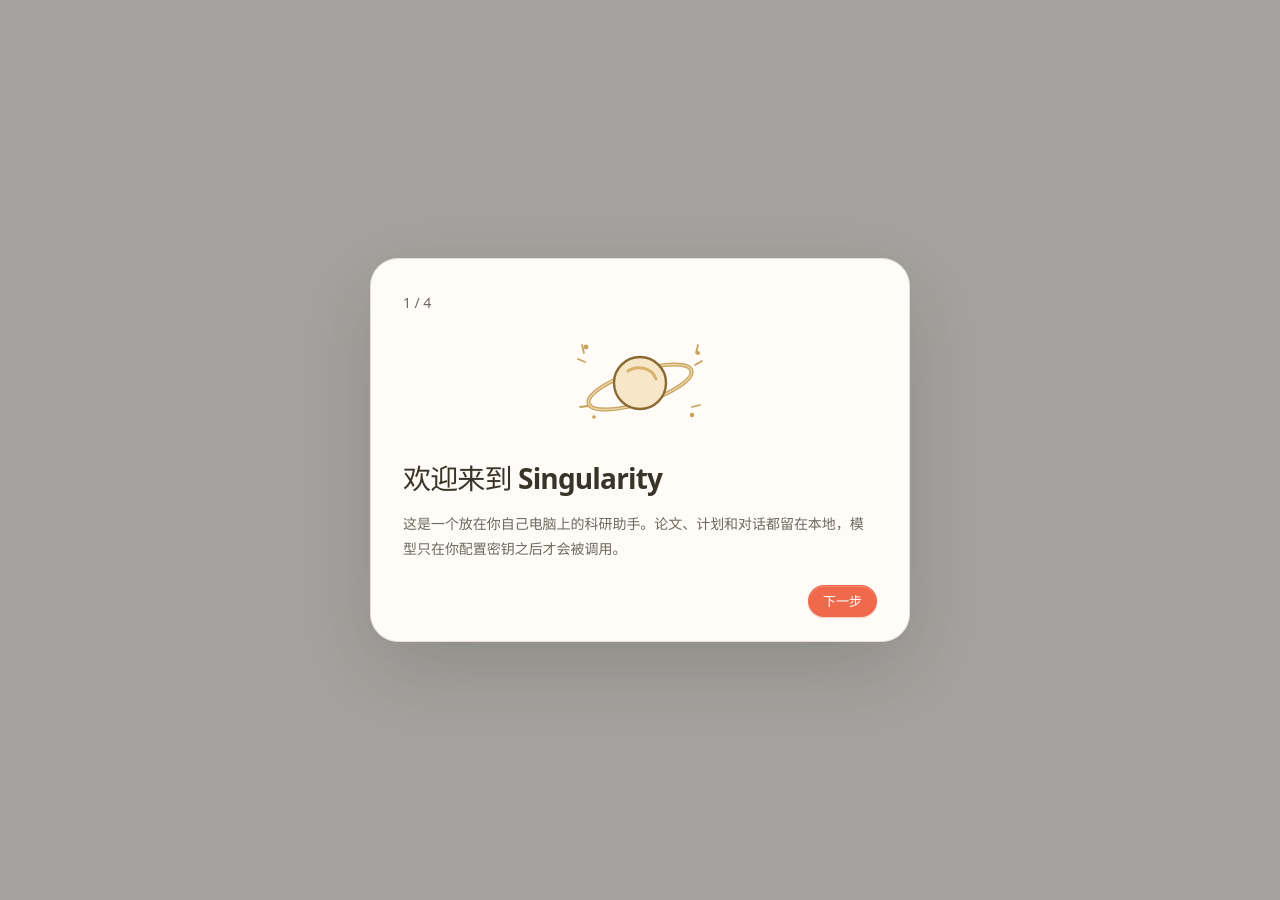
Test: skips model setup when the key is empty
Click the button "下一步" at [842, 602], box [808,586,877,618]
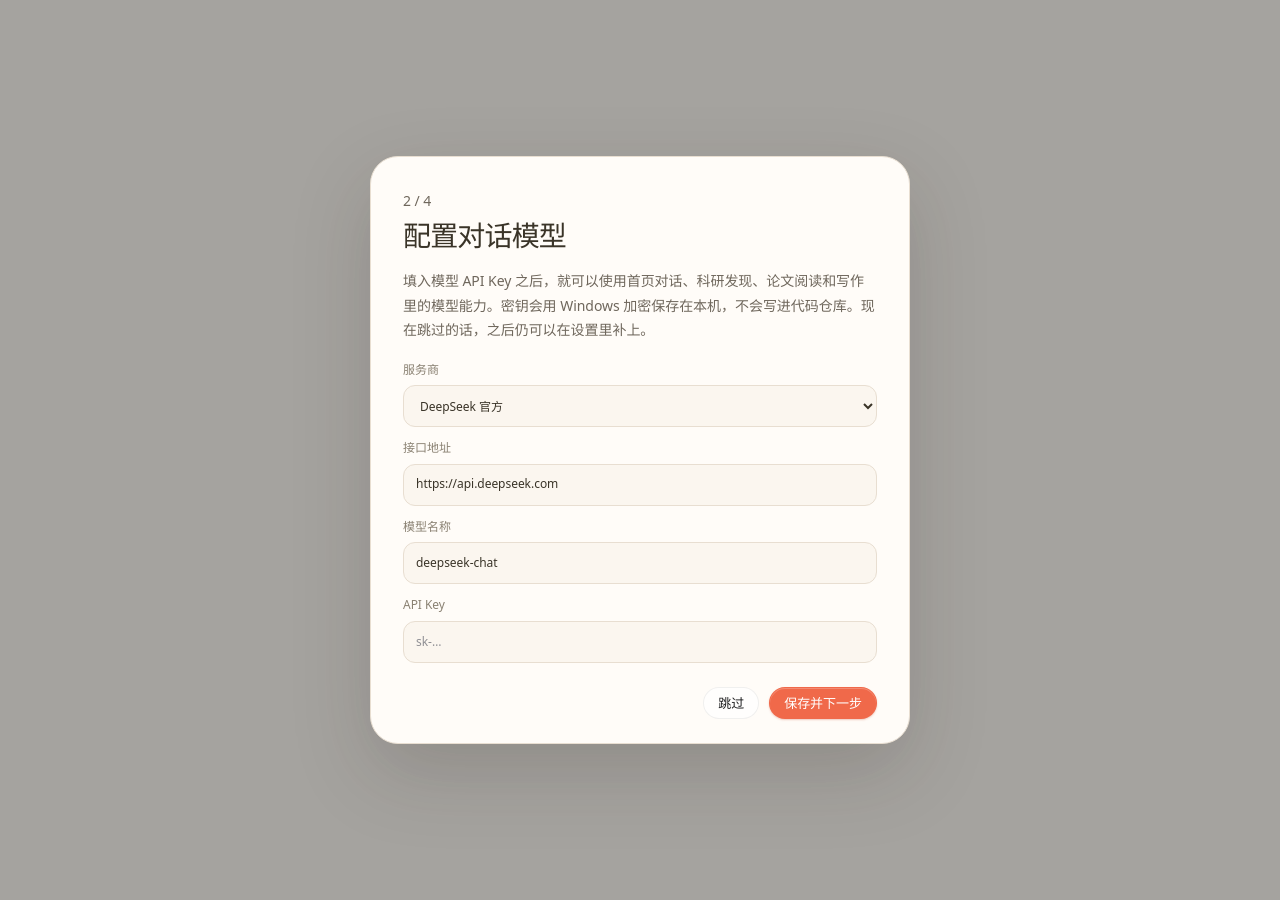
Click the button "保存并下一步" at [823, 703], box [769,687,877,719]
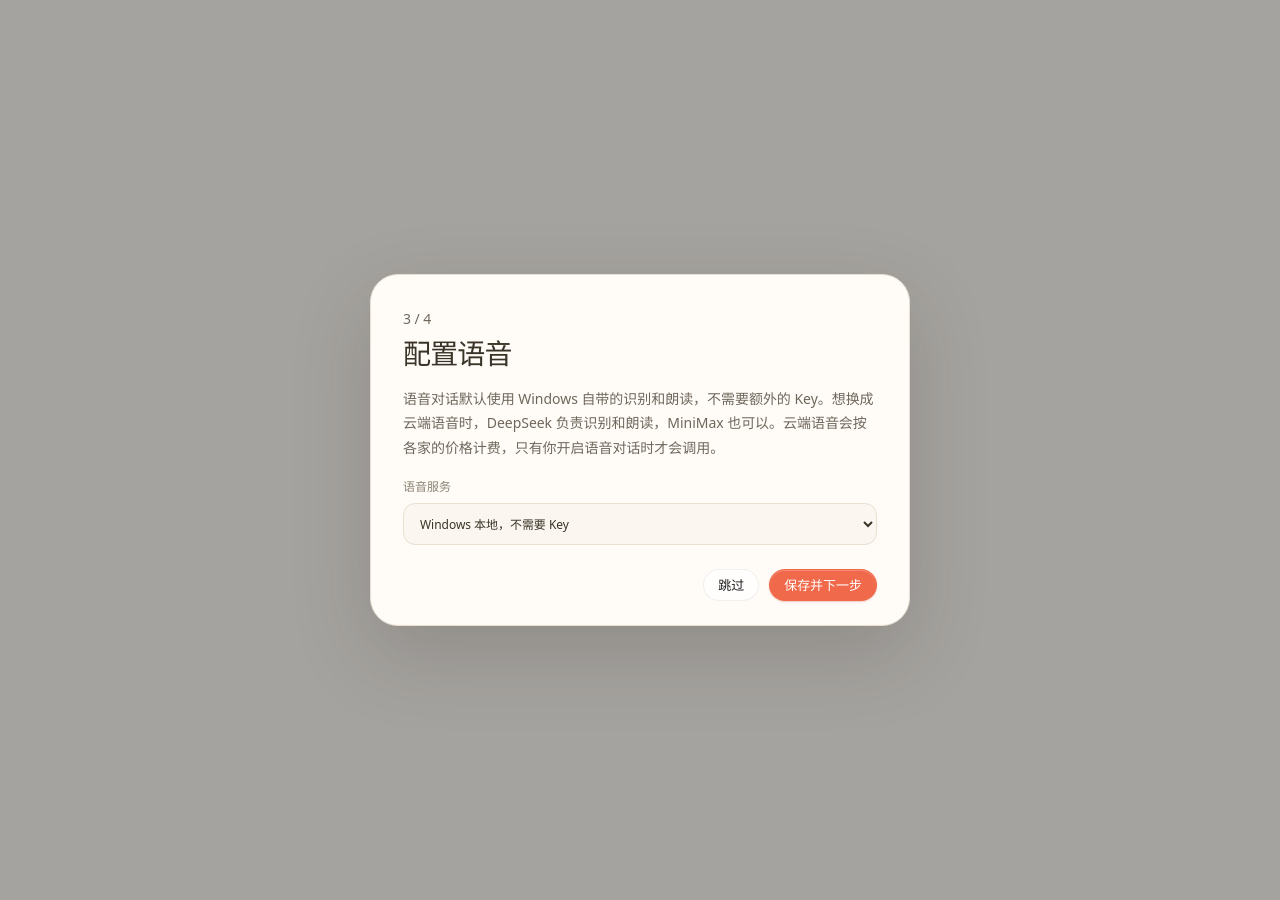
Expected: the heading "配置语音" is shown, [403,334,512,372]
